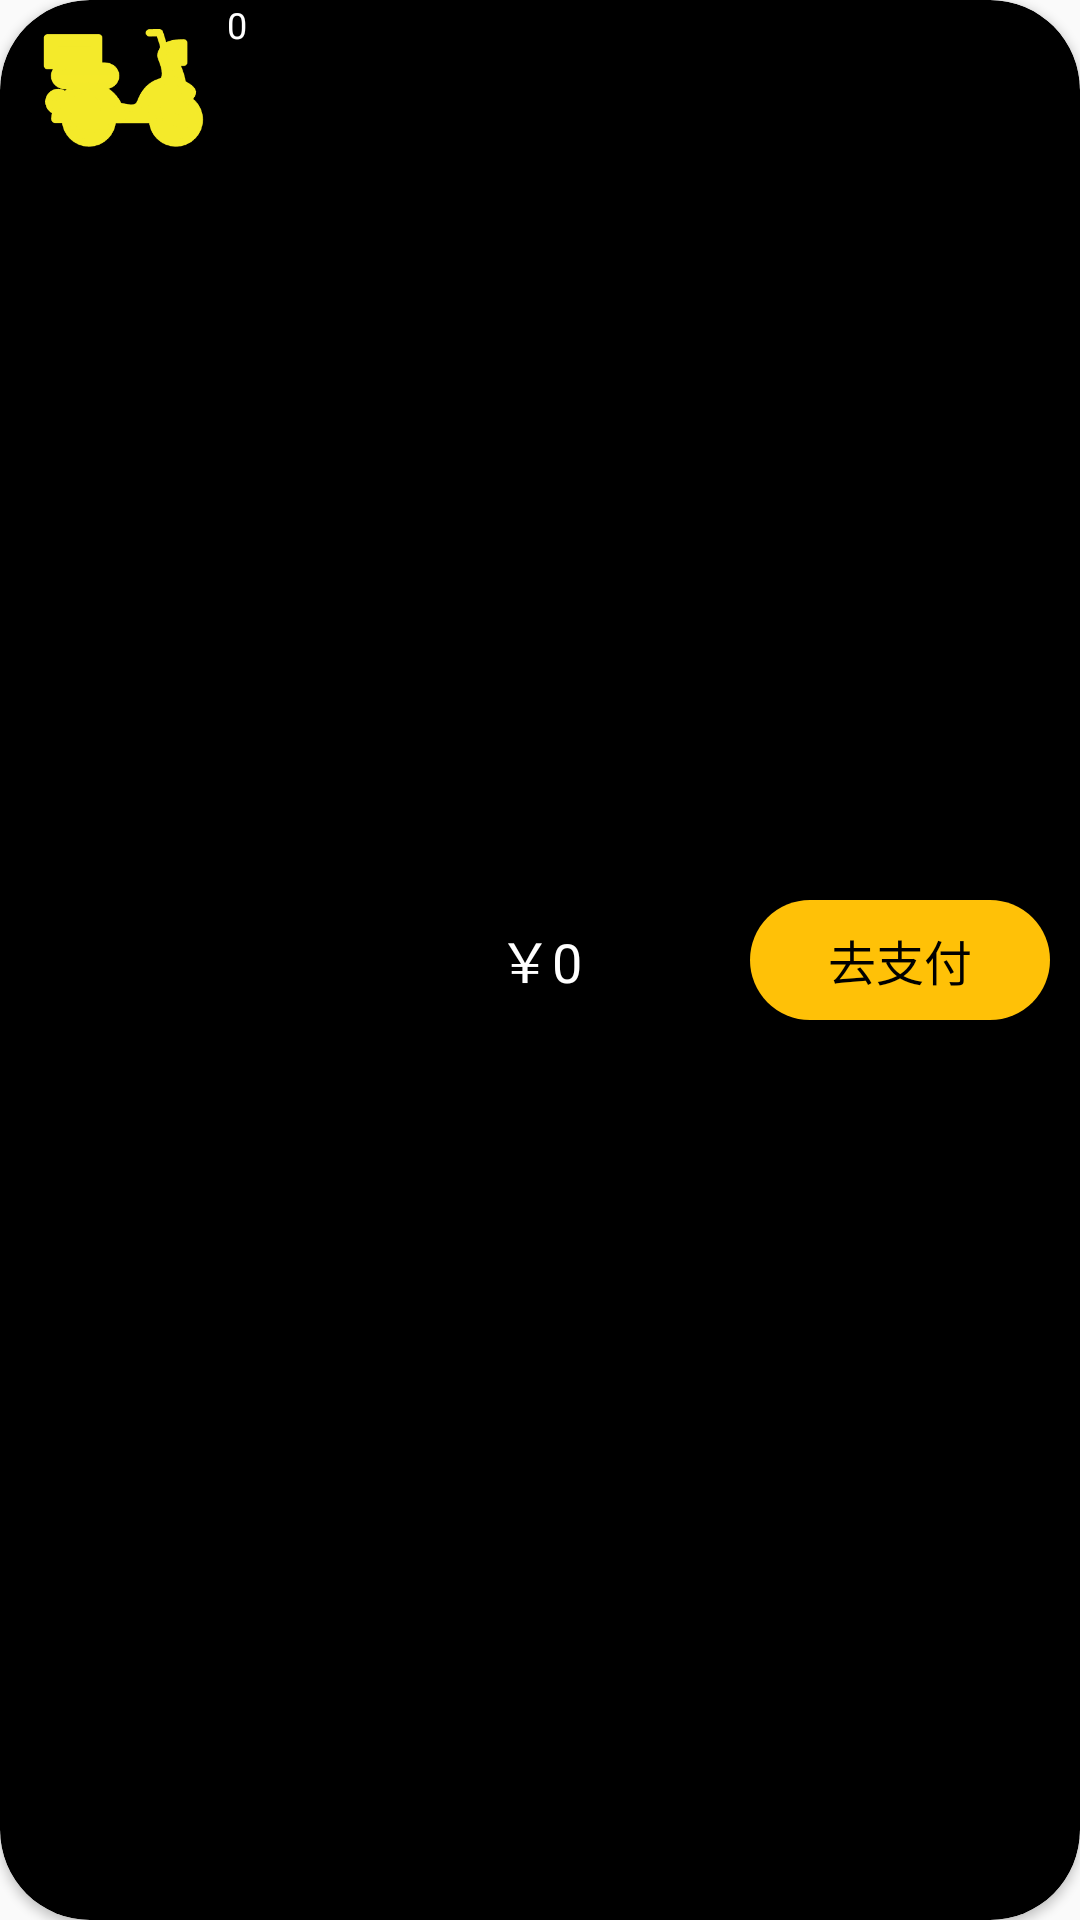

Point at icon controls on the screen. Image size 1080*1920, points as point (x, y).
waimai: point (123, 88)
